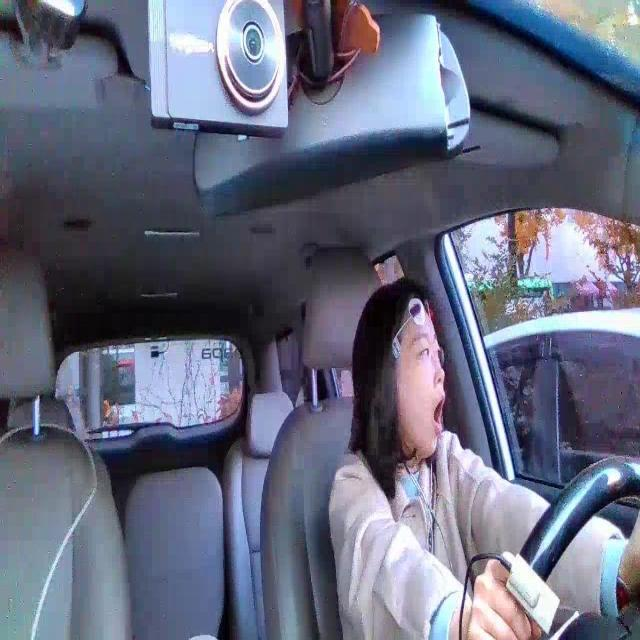Inattentive: (356, 276, 446, 462)
Yawning: (432, 393, 446, 436)
